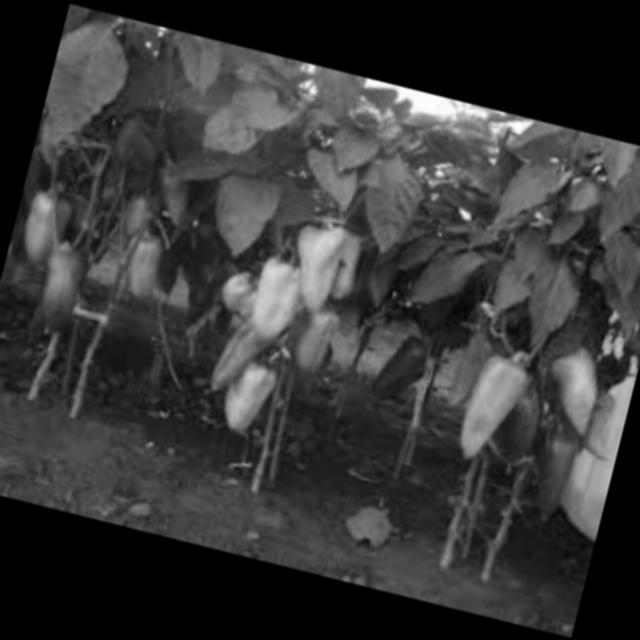ot chuong: (508, 401, 601, 538), (93, 190, 183, 303), (527, 328, 615, 442), (450, 340, 527, 462), (235, 240, 317, 352), (199, 297, 276, 406), (20, 240, 90, 348), (436, 302, 500, 420), (16, 174, 86, 277), (279, 214, 349, 308), (206, 353, 276, 446), (366, 321, 436, 409), (482, 372, 548, 464), (280, 291, 348, 374), (573, 386, 630, 469), (324, 222, 378, 302), (212, 262, 272, 326)
